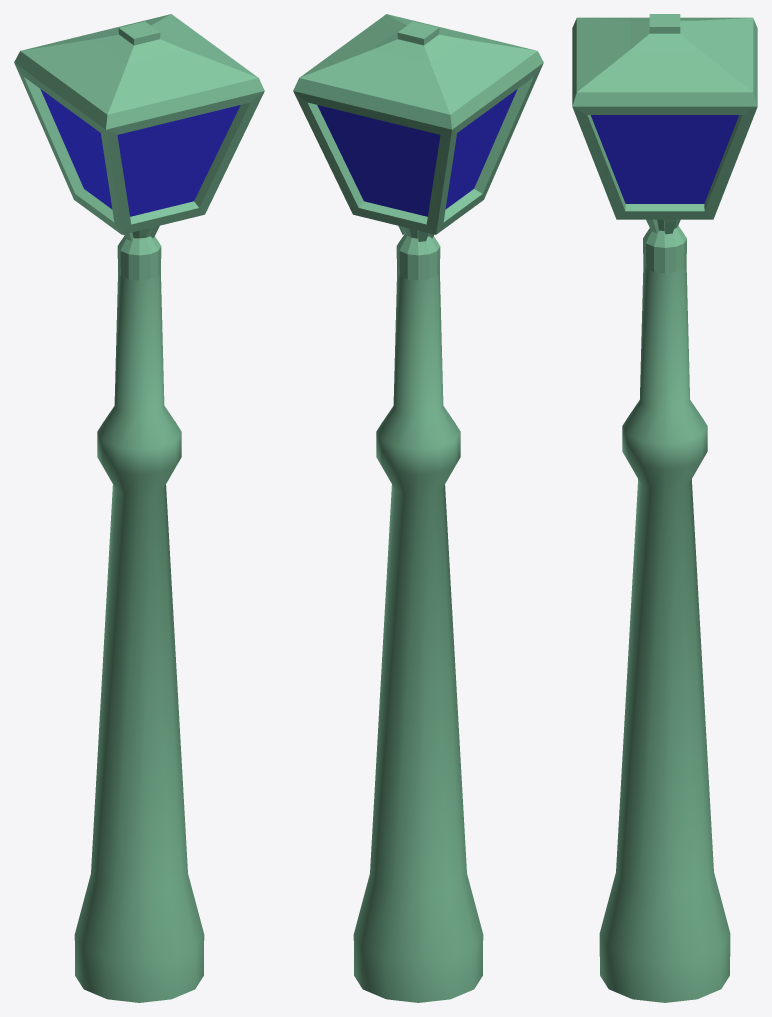
File: Lamp.fbx
3 renders of one model, left to right at view 1: azimuth 30°, elevation 25°; view 2: azimuth 150°, elevation 25°; view 3: azimuth 270°, elevation 25°, orthographic.
Visible parts, largest first — view 1: Cylinder002; view 2: Cylinder002; view 3: Cylinder002.
Part boxes in pixels (bbox=[...]): Cylinder002: bbox=[14, 14, 264, 1002]; Cylinder002: bbox=[293, 14, 543, 1002]; Cylinder002: bbox=[572, 14, 757, 1002].
Size of the model in its own units: 14.52 by 82.52 by 14.52.
